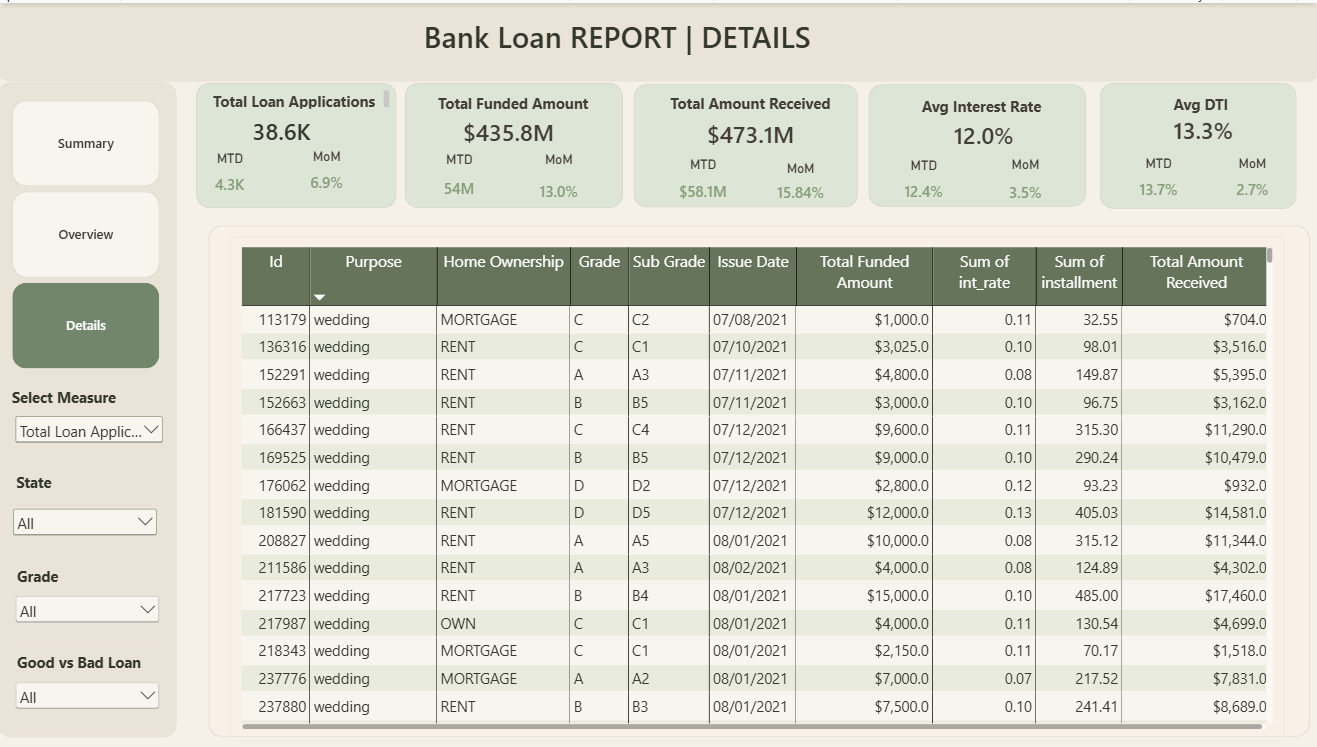

What the dashboard file says about the page in this screenshot:
{"tool":"powerbi","page":{"name":"Details","canvas":[1920,1080],"ordinal":2},"visuals":[{"type":"shape","box":[0,0,1920.1,114],"z":0},{"type":"shape","box":[290.1,115.8,290.4,180.9],"z":0,"group":"g1"},{"type":"shape","box":[1597.9,115.8,285.1,182.1],"z":0,"group":"g5"},{"type":"shape","box":[592.2,115.9,316.1,181],"z":0,"group":"g2"},{"type":"shape","box":[1263.1,117.6,314.9,177.3],"z":0,"group":"g4"},{"type":"shape","box":[922.6,117.7,325,178.4],"z":0,"group":"g3"},{"type":"cardVisual","fields":{"Data":["public bank_loan.Avg DTI"]},"box":[1649.9,151.7,195.6,62.7],"z":1000,"group":"g5"},{"type":"cardVisual","fields":{"Data":["public bank_loan.Total Funded Amount"]},"box":[613.2,156.4,258,62.6],"z":1000,"group":"g2"},{"type":"cardVisual","fields":{"Data":["public bank_loan.Total Amount Received"]},"box":[954.4,157.1,274.9,63.6],"z":1000,"group":"g3"},{"type":"cardVisual","fields":{"Data":["public bank_loan.Avg DTI"]},"box":[1652.2,157.4,190,47.1],"z":1000},{"type":"cardVisual","fields":{"Data":["public bank_loan.Avg Interest Rate"]},"box":[1303.5,158.7,254.6,63.1],"z":1000,"group":"g4"},{"type":"shape","box":[1.8,114,260.2,949.7],"z":2000},{"type":"textbox","box":[1628.2,132.1,237.1,36.2],"z":2000,"group":"g5"},{"type":"textbox","box":[1294.6,134.8,271.4,35.1],"z":2000,"group":"g4"},{"type":"cardVisual","fields":{"Data":["public bank_loan.Total Loan Applications"]},"box":[318.2,153.7,190.4,61.6],"z":2000,"group":"g1"},{"type":"textbox","box":[253.4,18.1,1292.1,72.4],"z":3000},{"type":"textbox","box":[614,130.8,276.2,33.1],"z":3000,"group":"g2"},{"type":"cardVisual","title":"MTD","fields":{"Data":["public bank_loan.MTD Avg DTI"]},"box":[1615,220,137.5,74.2],"z":3000,"group":"g5"},{"type":"group","id":"g1","title":"Group 1","box":[289.7,115.8,290.8,180.9],"z":4000},{"type":"textbox","box":[300.2,127,268.6,26.7],"z":4000,"group":"g1"},{"type":"textbox","box":[931.4,129.5,326,48.8],"z":4000,"group":"g3"},{"type":"cardVisual","title":"MoM","fields":{"Data":["public bank_loan.MoM avg DTI"]},"box":[1758,220,123.1,76],"z":4000,"group":"g5"},{"type":"group","id":"g2","title":"Group 3","box":[592.2,115.9,316.1,189.5],"z":5000},{"type":"group","id":"g3","title":"Group 4","box":[922.6,117.7,334.8,182.1],"z":6000},{"type":"group","id":"g4","title":"Group 5","box":[1263.1,117.6,314.9,184.6],"z":7000},{"type":"group","id":"g5","title":"Group 2","box":[1597.9,115.8,285.9,182.8],"z":8000},{"type":"shape","box":[307.6,322.1,1594.3,740.2],"z":9000},{"type":"cardVisual","title":"MoM","fields":{"Data":["public bank_loan.MoM Loan Application"]},"box":[420.6,212,117.6,74.2],"z":10000,"group":"g1"},{"type":"tableEx","fields":{"Values":["public bank_loan.id","public bank_loan.purpose","public bank_loan.home_ownership","public bank_loan.grade","public bank_loan.sub_grade","public bank_loan.issue_date","public bank_loan.Total Funded Amount","Sum(public bank_loan.int_rate)","Sum(public bank_loan.installment)","public bank_loan.Total Amount Received"]},"box":[338.4,338.4,1527.4,731.1],"z":10000},{"type":"group","id":"g6","title":"Group 7","box":[10.9,141.2,235.3,913.9],"z":10001},{"type":"cardVisual","title":"MTD","fields":{"Data":["public bank_loan.MTD Funded Amound"]},"box":[612.3,215.2,117.7,80.9],"z":11000,"group":"g2"},{"type":"cardVisual","title":"MoM","fields":{"Data":["public bank_loan.MoM Total funded Amount"]},"box":[742.9,215.2,145.3,90.1],"z":12000,"group":"g2"},{"type":"slicer","fields":{"Values":["public bank_loan.address_state"]},"box":[20.6,727.8,217.5,72.1],"z":12000,"group":"g7"},{"type":"cardVisual","title":"MTD","fields":{"Data":["public bank_loan.MTD Total Amound Recieved"]},"box":[957.5,222.5,132.4,77.3],"z":13000,"group":"g3"},{"type":"textbox","box":[23.8,938.6,193.4,40.7],"z":13000,"group":"g7"},{"type":"cardVisual","title":"MoM","fields":{"Data":["public bank_loan.MoM Total Amount Recieved"]},"box":[1095.5,228.1,136.1,68.1],"z":14000,"group":"g3"},{"type":"slicer","fields":{"Values":["public bank_loan.grade"]},"box":[23.8,853.5,217.5,72.1],"z":14000,"group":"g7"},{"type":"cardVisual","title":"MTD","fields":{"Data":["public bank_loan.MTD avg interest rate"]},"box":[1263.1,224.9,159.7,73.4],"z":15000,"group":"g4"},{"type":"textbox","box":[10.9,678.3,87.9,50.5],"z":15000,"group":"g7"},{"type":"cardVisual","title":"MoM","fields":{"Data":["public bank_loan.MoM Avg Int Rate"]},"box":[1421.9,222.3,135.5,79.9],"z":16000,"group":"g4"},{"type":"textbox","box":[10.9,814.7,104.7,49.9],"z":16000,"group":"g7"},{"type":"cardVisual","title":"MTD","fields":{"Data":["public bank_loan.MTD Funded Amount"]},"box":[289.7,213.9,97.7,74.2],"z":17000,"group":"g1"},{"type":"slicer","fields":{"Values":["public bank_loan.Good Vs Bad Loan"]},"box":[23.8,979.3,217.5,75.8],"z":17000,"group":"g7"},{"type":"slicer","fields":{"Values":["Select Measure.Select Measure"]},"box":[23.8,594.6,222.4,77.7],"z":19000,"group":"g7"},{"type":"textbox","box":[14.1,555.8,167.6,38.8],"z":20000,"group":"g7"},{"type":"pageNavigator","box":[23.6,141.2,213.5,388.8],"z":22000,"group":"g6"},{"type":"group","id":"g7","title":"Group 6","box":[10.9,555.8,235.3,499.3],"z":23000,"group":"g6"}]}

Visuals, with their boxes in screenshot pixels (x1, y1, x2, y2), scaled from the page's 1920x1080 canvas onto the 1317x747 screenshot:
shape: crop(0, 0, 1316, 79)
shape: crop(199, 80, 398, 205)
shape: crop(1096, 80, 1292, 206)
shape: crop(406, 80, 623, 205)
shape: crop(866, 81, 1082, 204)
shape: crop(633, 81, 856, 205)
cardVisual - public bank_loan.Avg DTI: crop(1132, 105, 1266, 148)
cardVisual - public bank_loan.Total Funded Amount: crop(421, 108, 598, 151)
cardVisual - public bank_loan.Total Amount Received: crop(655, 109, 843, 153)
cardVisual - public bank_loan.Avg DTI: crop(1133, 109, 1264, 141)
cardVisual - public bank_loan.Avg Interest Rate: crop(894, 110, 1069, 153)
shape: crop(1, 79, 180, 736)
textbox: crop(1117, 91, 1279, 116)
textbox: crop(888, 93, 1074, 118)
cardVisual - public bank_loan.Total Loan Applications: crop(218, 106, 349, 149)
textbox: crop(174, 13, 1060, 63)
textbox: crop(421, 90, 611, 113)
"MTD" cardVisual: crop(1108, 152, 1202, 203)
"Group 1" group: crop(199, 80, 398, 205)
textbox: crop(206, 88, 390, 106)
textbox: crop(639, 90, 862, 123)
"MoM" cardVisual: crop(1206, 152, 1290, 205)
"Group 3" group: crop(406, 80, 623, 211)
"Group 4" group: crop(633, 81, 862, 207)
"Group 5" group: crop(866, 81, 1082, 209)
"Group 2" group: crop(1096, 80, 1292, 207)
shape: crop(211, 223, 1305, 735)
"MoM" cardVisual: crop(289, 147, 369, 198)
tableEx - public bank_loan.id x public bank_loan.purpose: crop(232, 234, 1280, 740)
"Group 7" group: crop(7, 98, 169, 730)
"MTD" cardVisual: crop(420, 149, 501, 205)
"MoM" cardVisual: crop(510, 149, 609, 211)
slicer - public bank_loan.address_state: crop(14, 503, 163, 553)
"MTD" cardVisual: crop(657, 154, 748, 207)
textbox: crop(16, 649, 149, 677)
"MoM" cardVisual: crop(751, 158, 845, 205)
slicer - public bank_loan.grade: crop(16, 590, 166, 640)
"MTD" cardVisual: crop(866, 156, 976, 206)
textbox: crop(7, 469, 68, 504)
"MoM" cardVisual: crop(975, 154, 1068, 209)
textbox: crop(7, 564, 79, 598)
"MTD" cardVisual: crop(199, 148, 266, 199)
slicer - public bank_loan.Good Vs Bad Loan: crop(16, 677, 166, 730)
slicer - Select Measure.Select Measure: crop(16, 411, 169, 465)
textbox: crop(10, 384, 125, 411)
pageNavigator: crop(16, 98, 163, 367)
"Group 6" group: crop(7, 384, 169, 730)
